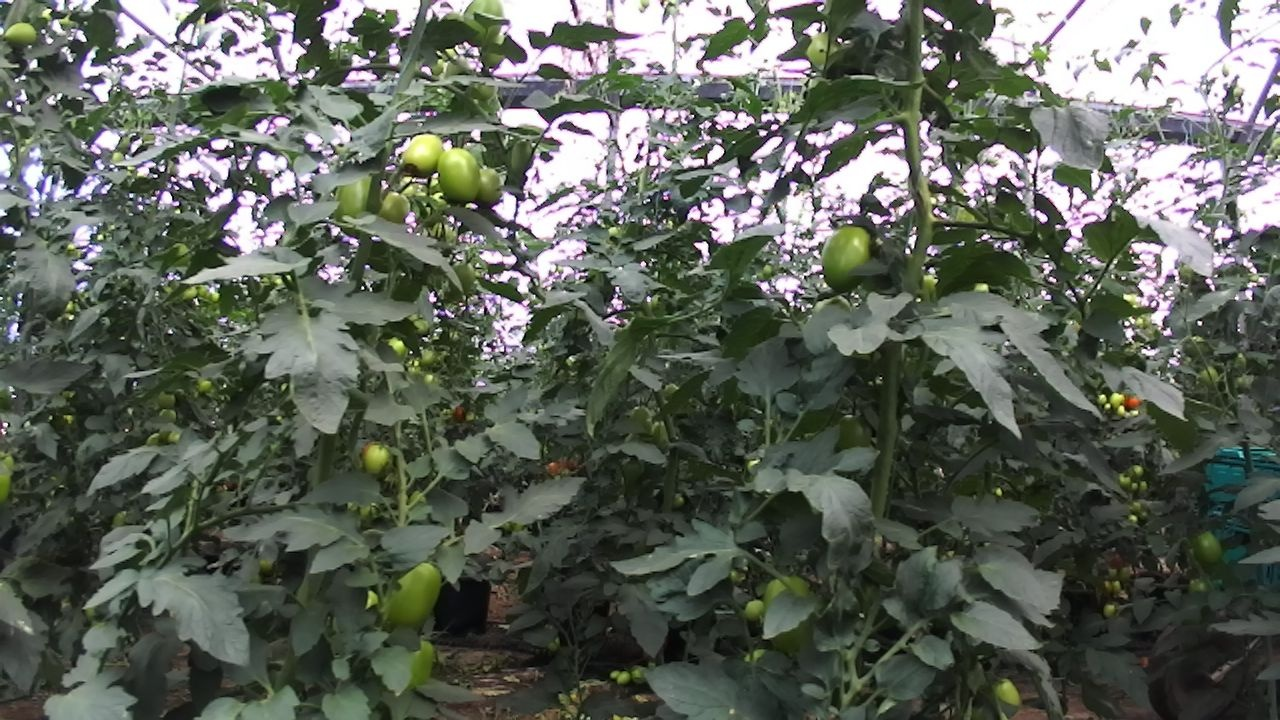tomato: (816, 215, 884, 303), (380, 555, 449, 634), (760, 570, 813, 655), (432, 140, 490, 214), (329, 160, 380, 244), (453, 0, 514, 55), (395, 125, 451, 182), (800, 26, 848, 74), (986, 671, 1029, 720), (359, 437, 402, 485), (1188, 523, 1230, 572), (470, 163, 510, 211), (374, 186, 414, 232), (2, 17, 44, 55), (740, 596, 769, 624), (1107, 389, 1126, 411), (615, 668, 631, 687)
